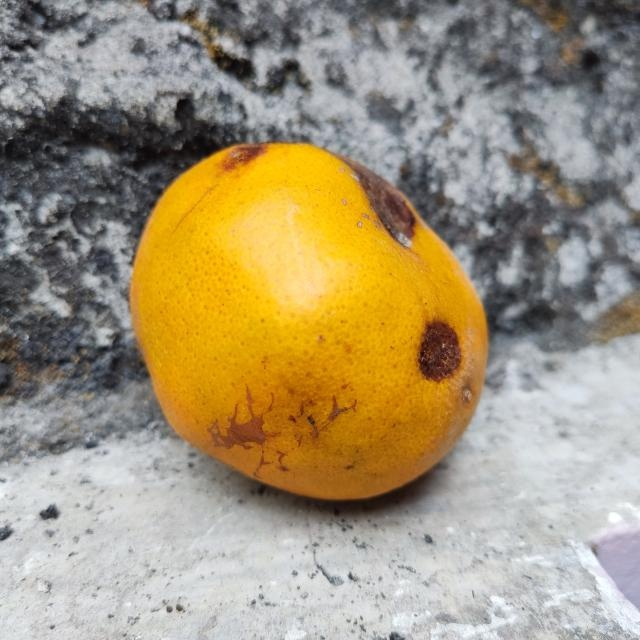agrume: (126, 141, 490, 501)
